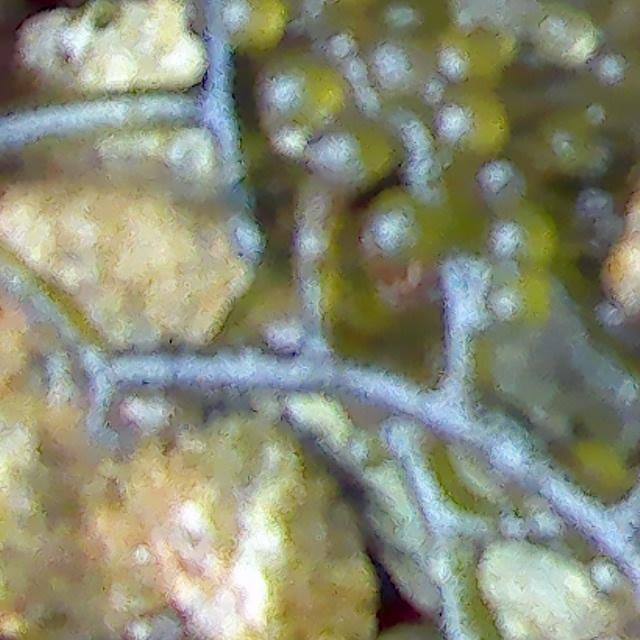SeaGrape: (309, 117, 388, 182), (442, 91, 509, 162), (368, 192, 436, 260), (486, 268, 554, 333), (265, 63, 337, 124), (489, 208, 558, 270), (223, 0, 285, 45)
